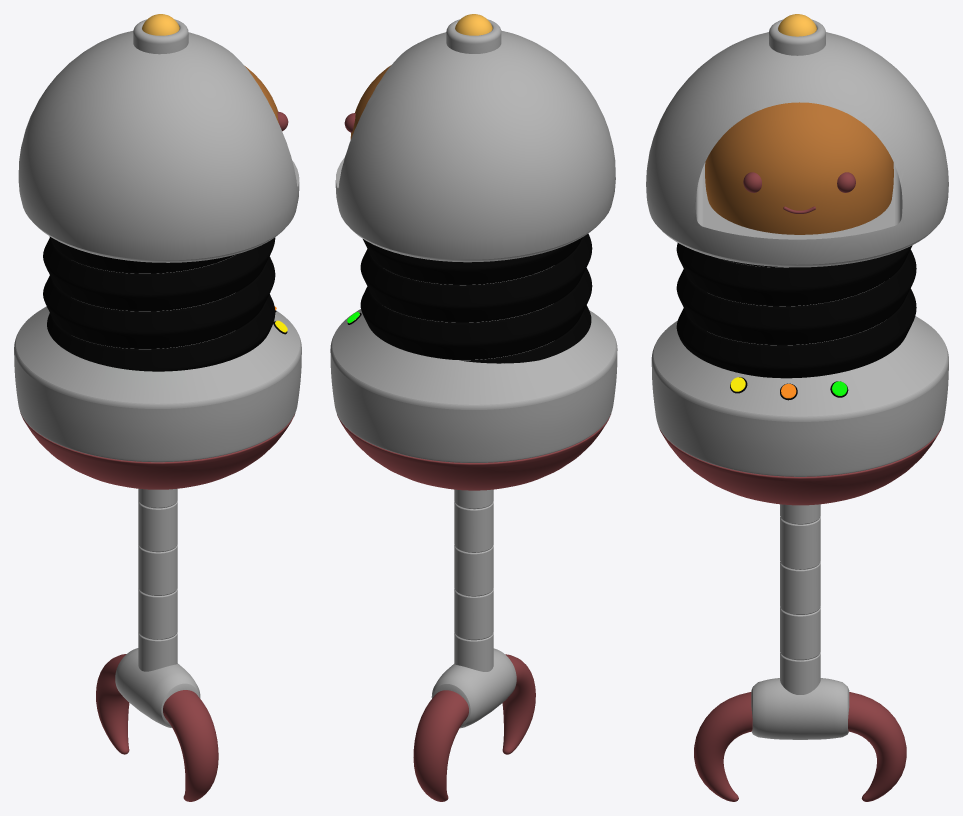
The model's file is Copper.glb.
3 views of the same model, side by side, from view 1: azimuth 30°, elevation 25°; view 2: azimuth 150°, elevation 25°; view 3: azimuth 270°, elevation 25° (orthographic). The views are drawn at different scales.
Visible parts, largest first — view 1: Copper; view 2: Copper; view 3: Copper.
Part boxes in pixels (x1=…): Copper: x1=14, y1=14, x2=301, y2=801; Copper: x1=330, y1=14, x2=617, y2=801; Copper: x1=646, y1=14, x2=948, y2=801.
Bounding box in the file's own units: 0.7671 × 2.24 × 0.7818.
Materials: 1 (1 with a texture image).
